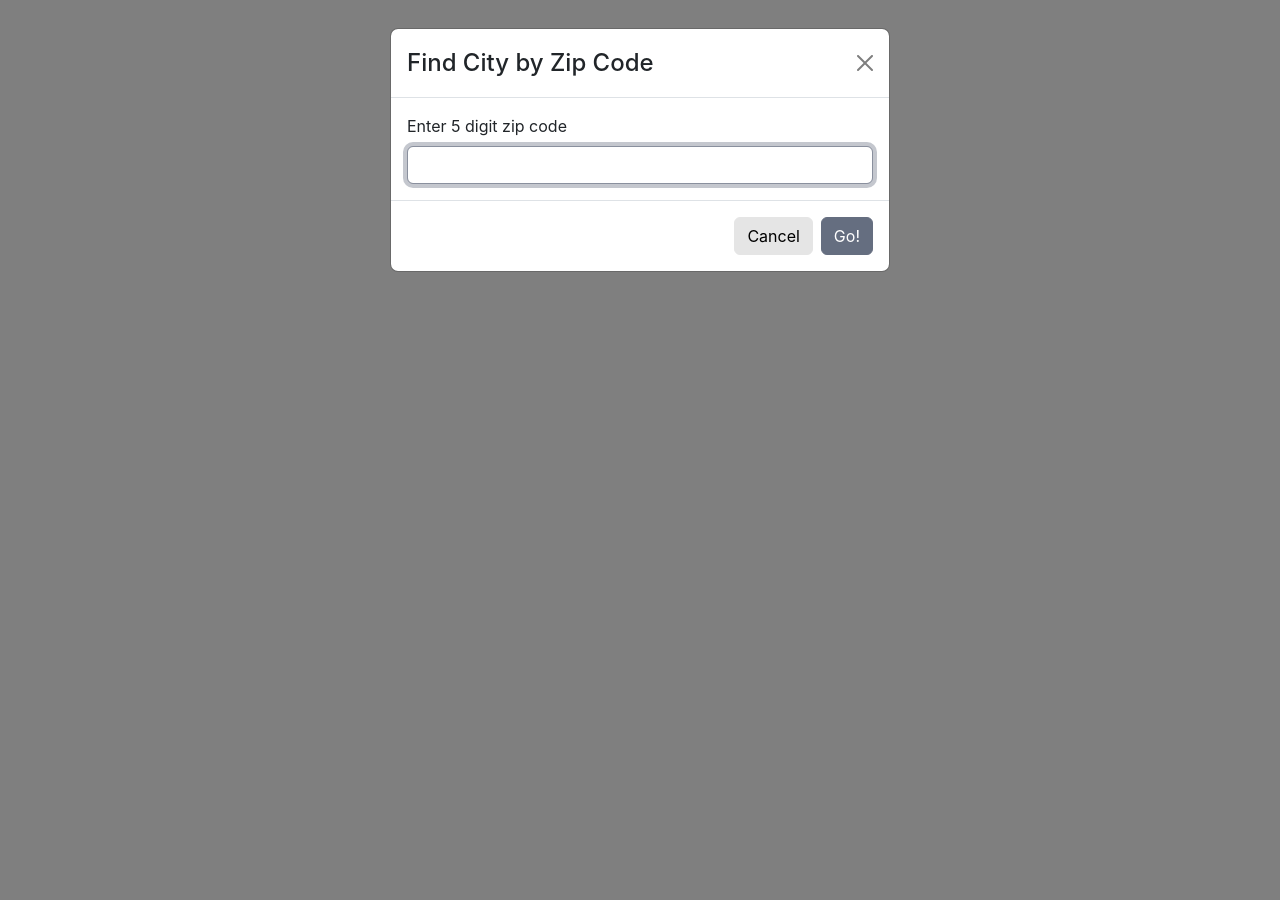
Scenario: Go! button is disabled until the zip input has a 5 digit number
Expected: the button "Go!" is disabled, [821,217,873,255]
Type "1000" into the field with test id "zip-input".
click(640, 165); type("1000")  # box [407,146,873,184]
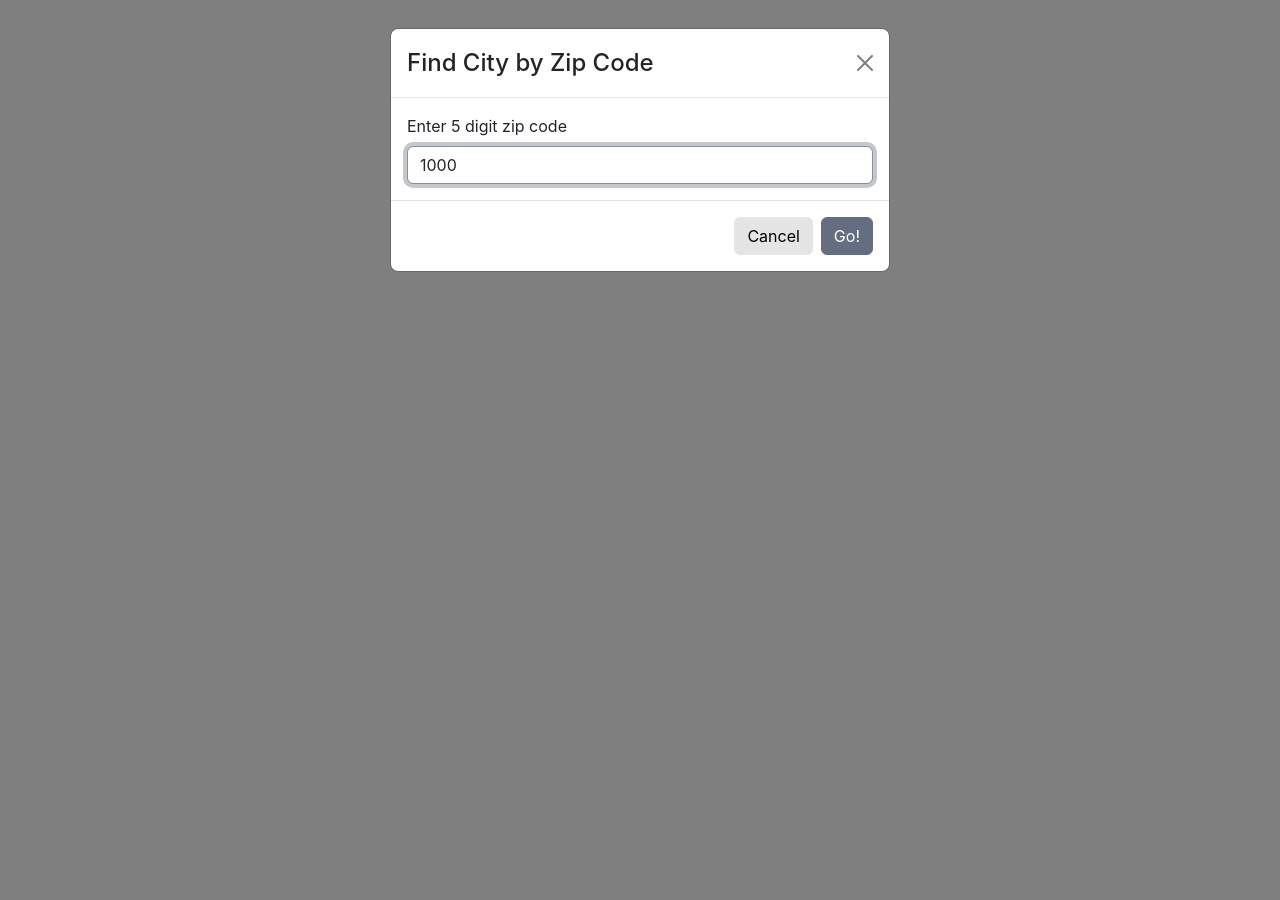
Expected: the button "Go!" is disabled, [821,217,873,255]
Type "1" into the field with test id "zip-input".
click(640, 165); type("1")  # box [407,146,873,184]
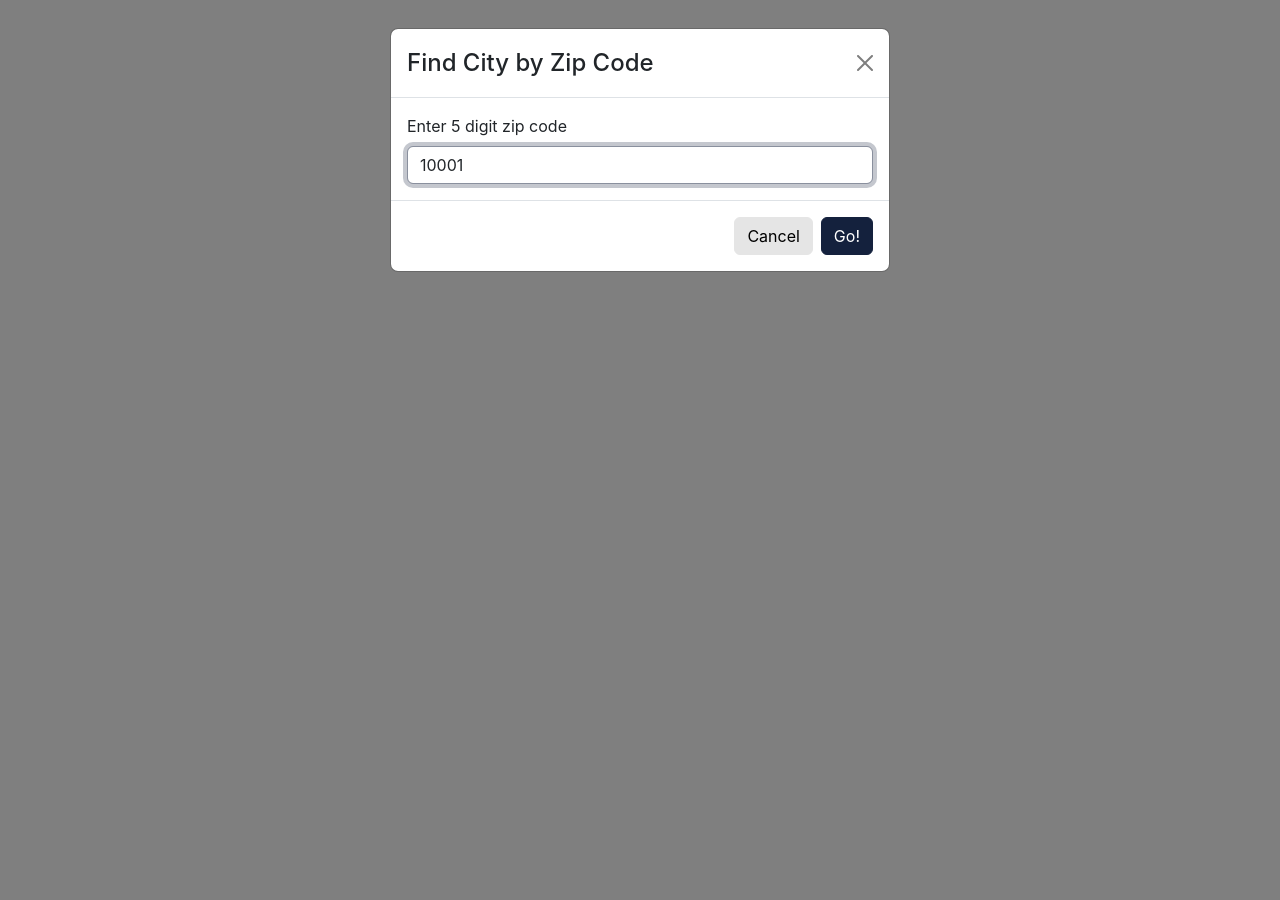
Expected: the button "Go!" is enabled, [821,217,873,255]
